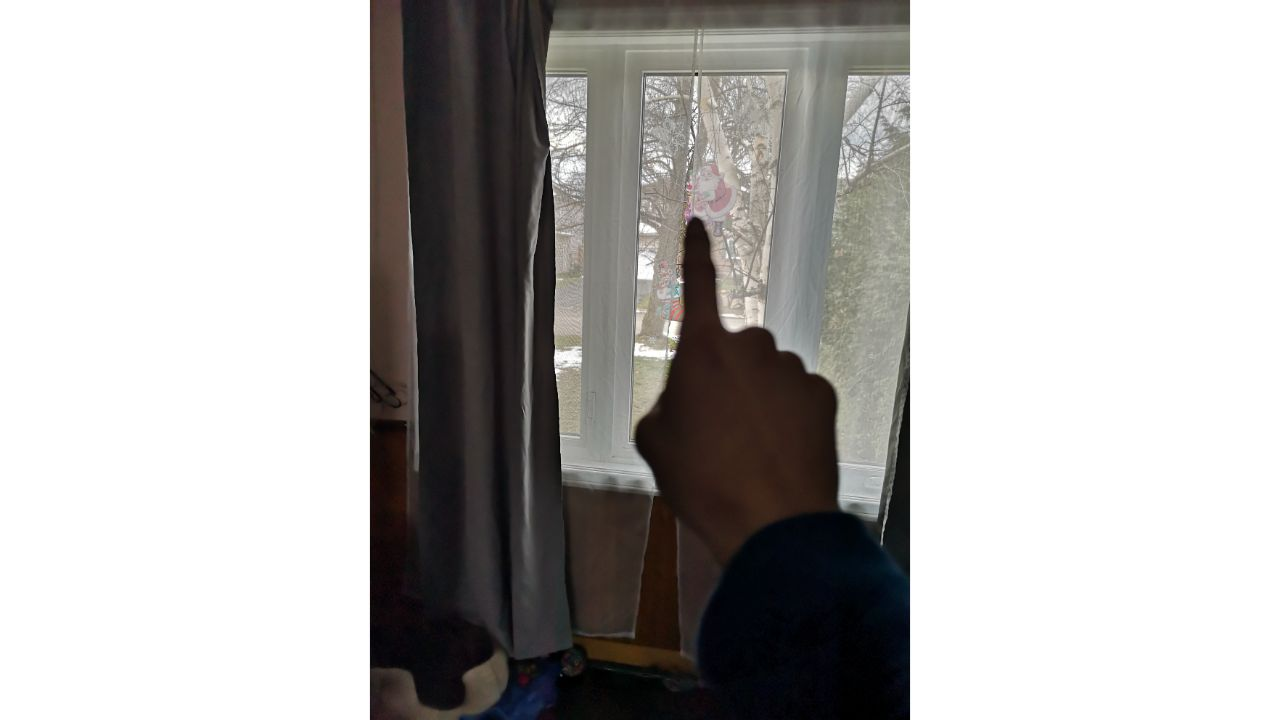finger: (628, 204, 854, 518)
